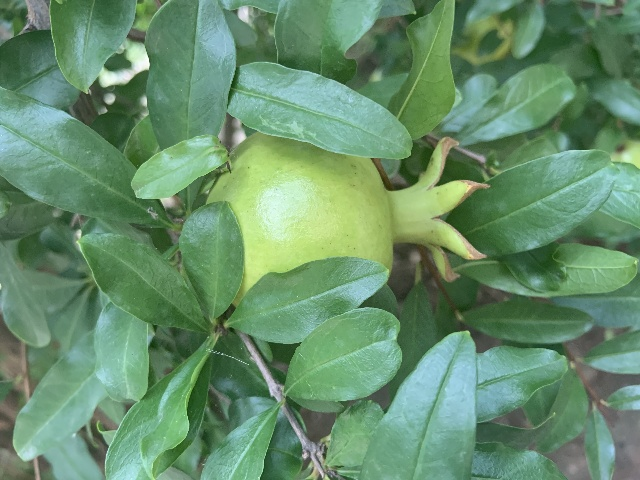mid-growth: (206, 133, 491, 308)
